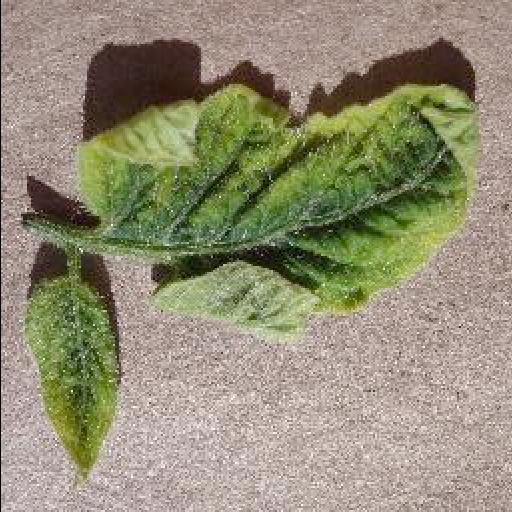disease_tomato: (72, 83, 484, 340), (34, 270, 122, 482)
